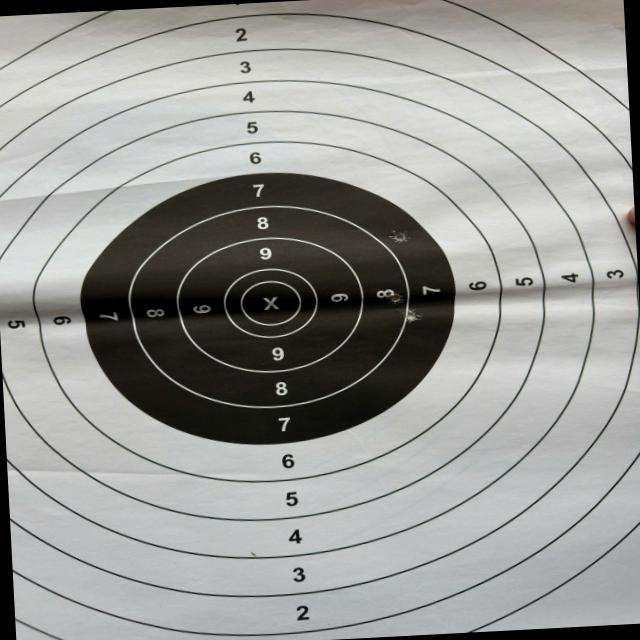bullet: (405, 311, 421, 322), (391, 293, 406, 304), (392, 232, 406, 241)
target: (0, 0, 640, 640)
